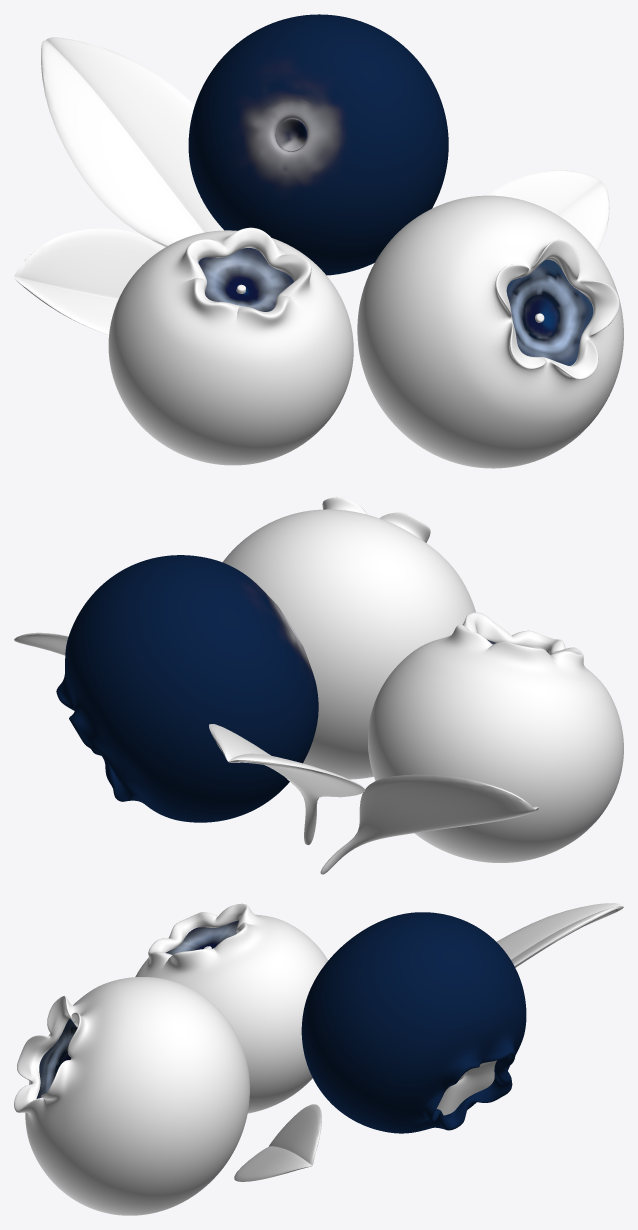
The model's file is Blueberry.glb.
3 renders of one model, top to bottom at view 1: azimuth 30°, elevation 25°; view 2: azimuth 150°, elevation 25°; view 3: azimuth 270°, elevation 25°, orthographic. The views are drawn at different scales.
Visible parts, largest first — view 1: Sphere.073, Sphere.075, Sphere.070, Plane.044, Plane.045, Sphere.077, Plane.043, Sphere.178; view 2: Sphere.075, Sphere.070, Sphere.073, Plane.045, Plane.044, Plane.043; view 3: Sphere.073, Sphere.075, Sphere.070, Plane.043, Plane.044, Sphere.079, Sphere.077, Sphere.178.
Part boxes in pixels (bbox=[...]): Sphere.073: bbox=[357, 195, 623, 468]; Sphere.075: bbox=[188, 14, 448, 275]; Sphere.070: bbox=[108, 227, 353, 465]; Plane.044: bbox=[41, 37, 223, 246]; Plane.045: bbox=[14, 228, 162, 334]; Sphere.077: bbox=[506, 259, 593, 365]; Plane.043: bbox=[486, 170, 609, 251]; Sphere.178: bbox=[198, 248, 293, 311]; Sphere.075: bbox=[56, 555, 318, 822]; Sphere.070: bbox=[368, 612, 623, 862]; Sphere.073: bbox=[222, 497, 475, 779]; Plane.045: bbox=[320, 774, 538, 874]; Plane.044: bbox=[209, 724, 365, 845]; Plane.043: bbox=[14, 632, 68, 655]; Sphere.073: bbox=[14, 977, 249, 1215]; Sphere.075: bbox=[301, 912, 526, 1133]; Sphere.070: bbox=[135, 903, 327, 1113]; Plane.043: bbox=[234, 1104, 321, 1181]; Plane.044: bbox=[496, 903, 623, 967]; Sphere.079: bbox=[436, 1060, 496, 1115]; Sphere.077: bbox=[36, 1018, 77, 1098]; Sphere.178: bbox=[165, 920, 238, 954].
Bounding box in the file's own units: 6.7 × 3.69 × 7.36.
